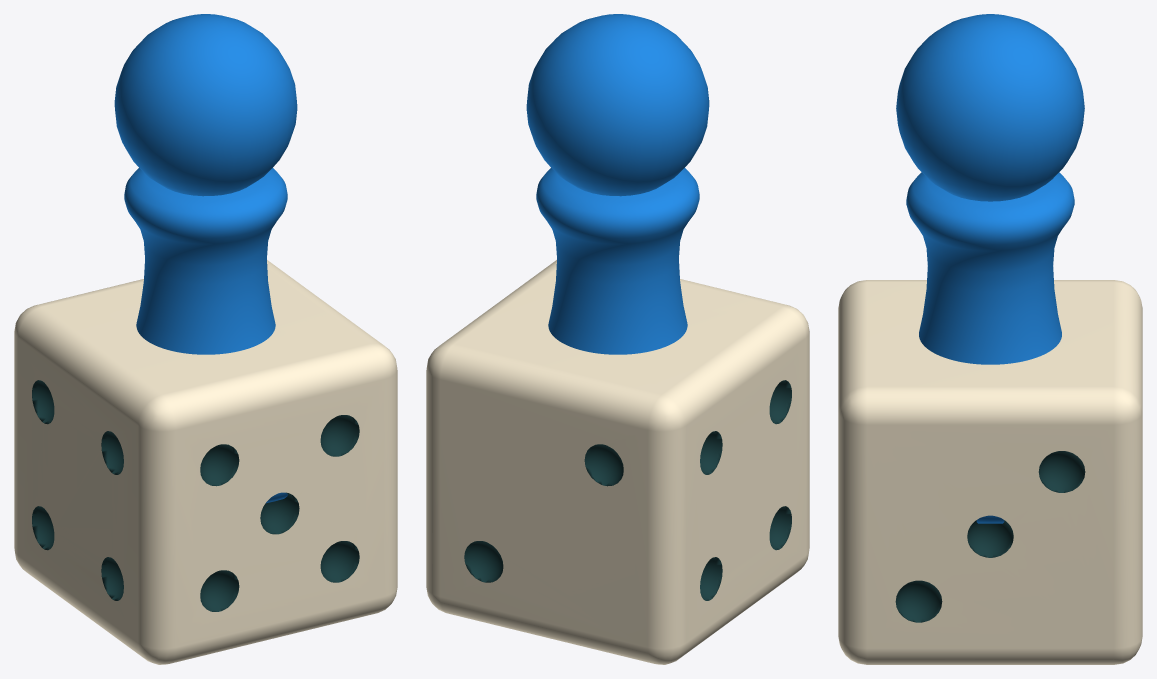
The model's file is board-pieces.glb.
3 views of the same model, side by side, from view 1: azimuth 30°, elevation 25°; view 2: azimuth 150°, elevation 25°; view 3: azimuth 270°, elevation 25° (orthographic). The views are drawn at different scales.
Visible parts, largest first — view 1: Die, Head.001, Body.001; view 2: Die, Head.001, Body.001; view 3: Die, Head.001, Body.001.
Part boxes in pixels (<box>): Die: <box>14,260,397,664</box>; Head.001: <box>114,14,297,196</box>; Body.001: <box>124,168,287,503</box>; Die: <box>426,260,809,664</box>; Head.001: <box>526,14,709,196</box>; Body.001: <box>536,168,699,354</box>; Die: <box>838,280,1142,664</box>; Head.001: <box>896,14,1084,201</box>; Body.001: <box>906,172,1074,523</box>.
Size of the model in its own units: 1 by 2.13 by 1.
